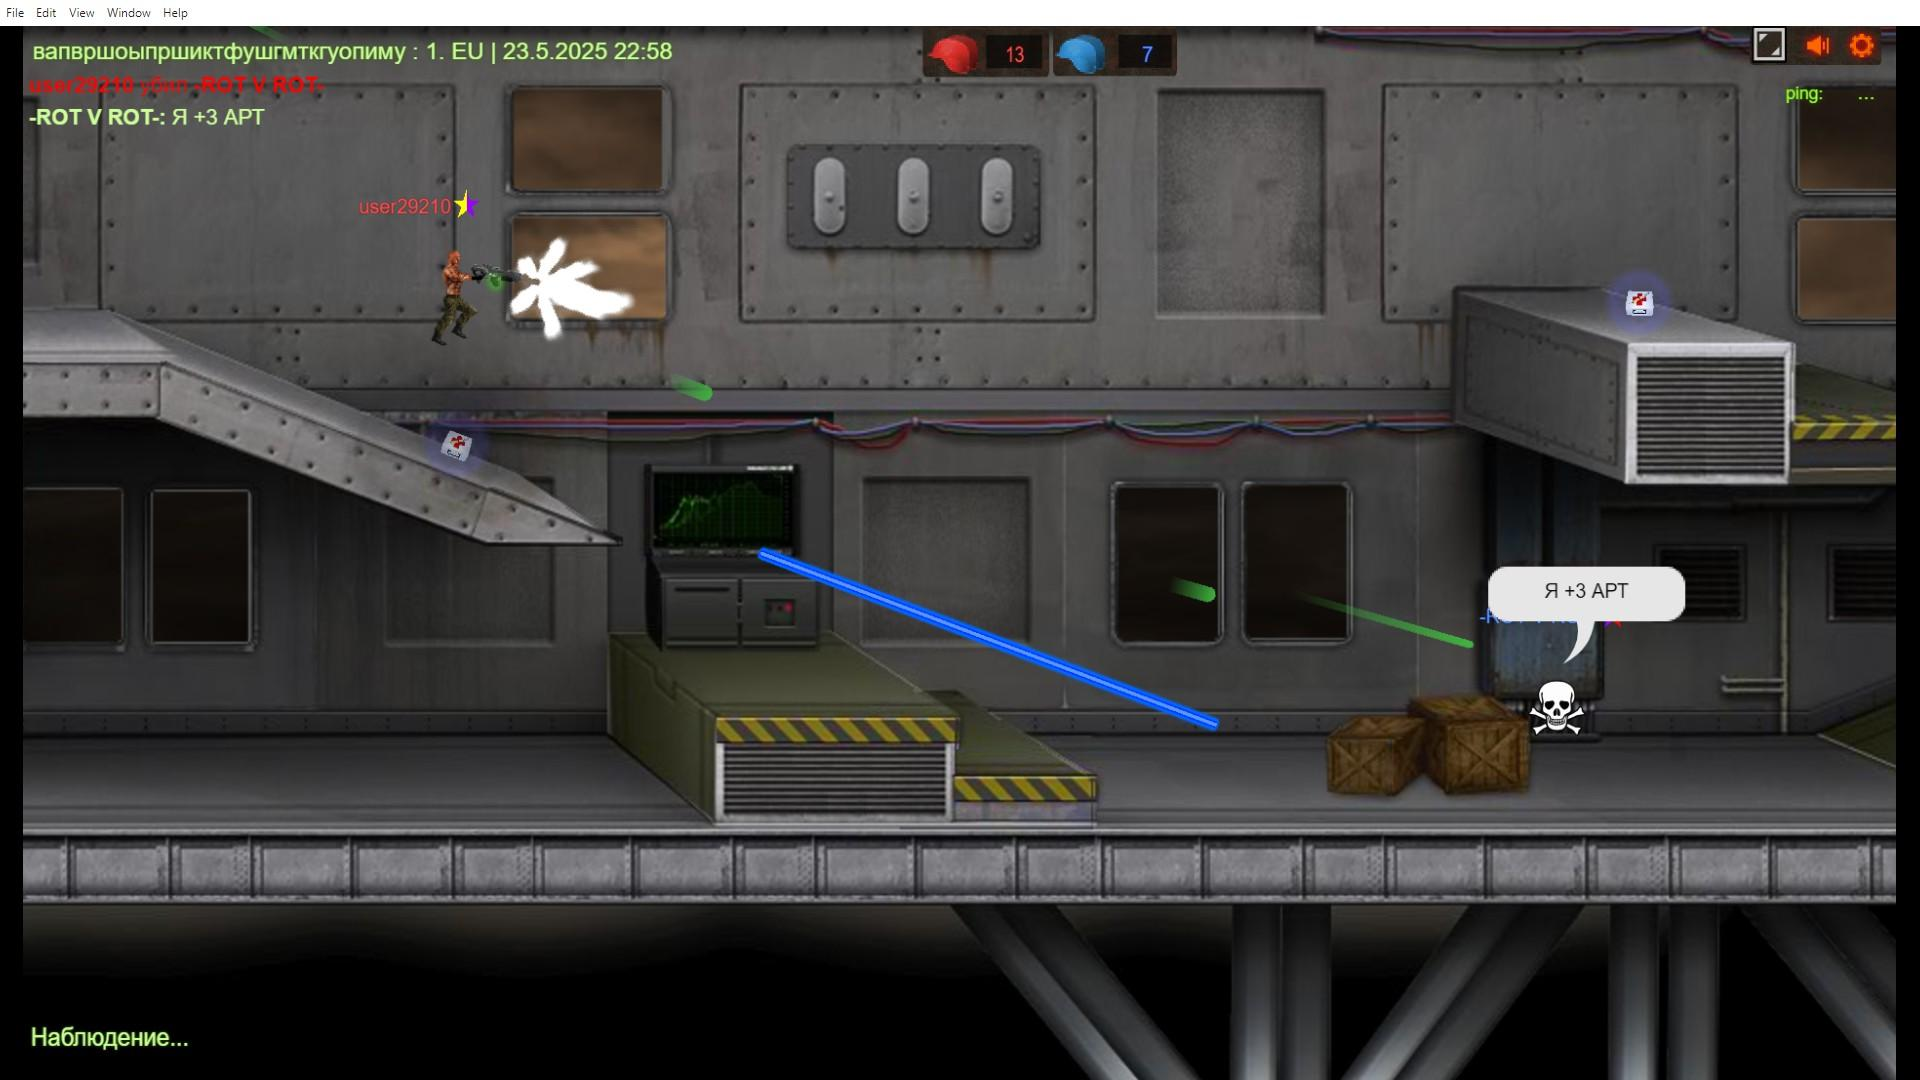enemy: (434, 243, 479, 348)
